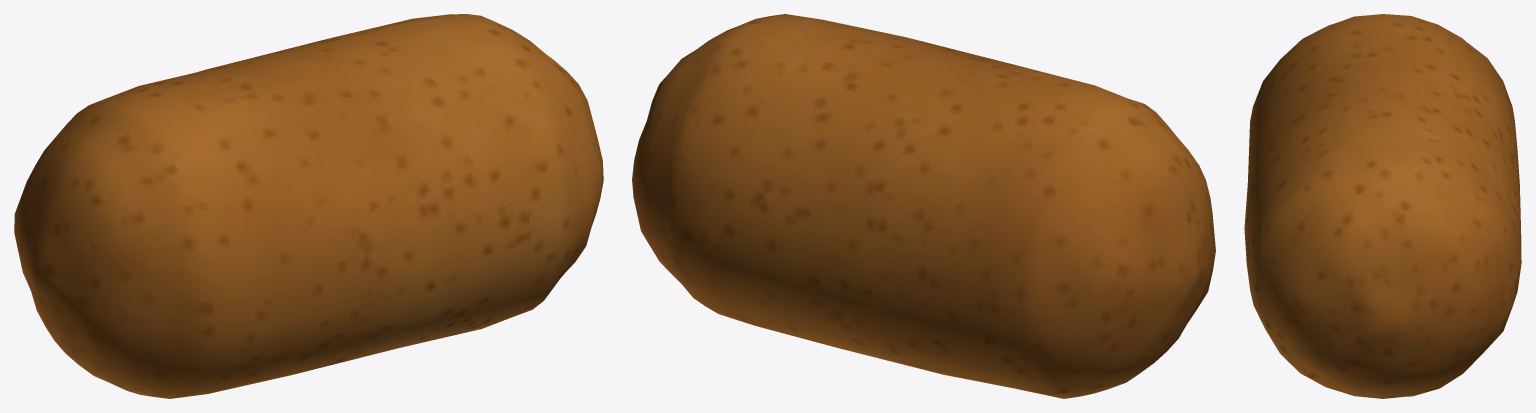
The model's file is croqueta.glb.
3 views of the same model, side by side, from view 1: azimuth 30°, elevation 25°; view 2: azimuth 150°, elevation 25°; view 3: azimuth 270°, elevation 25° (orthographic). The views are drawn at different scales.
Parts seen in each view (by area): view 1: croqueta; view 2: croqueta; view 3: croqueta.
Part boxes in pixels (x1=…): croqueta: x1=14, y1=14, x2=603, y2=398; croqueta: x1=632, y1=14, x2=1215, y2=398; croqueta: x1=1244, y1=14, x2=1521, y2=398.
Bounding box in the file's own units: 0.058 × 0.0295 × 0.0297.
1 material, 1 textured.
